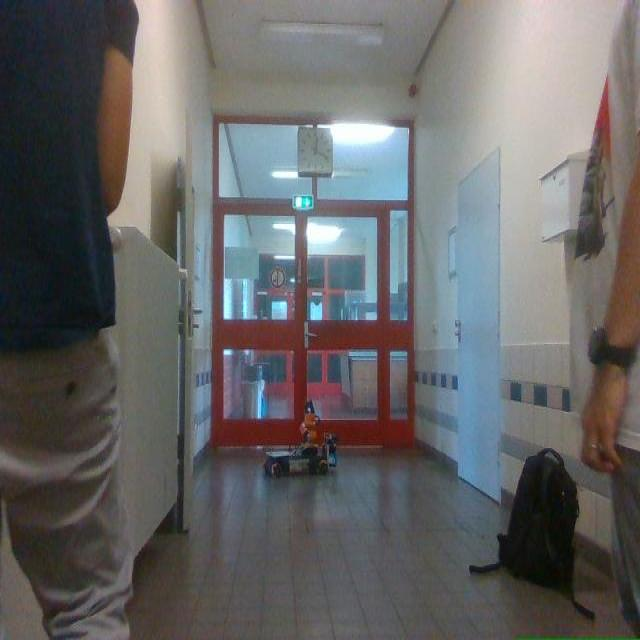humans: (0, 0, 138, 639), (574, 0, 639, 635)
objects: (469, 448, 594, 619), (264, 403, 337, 476)
